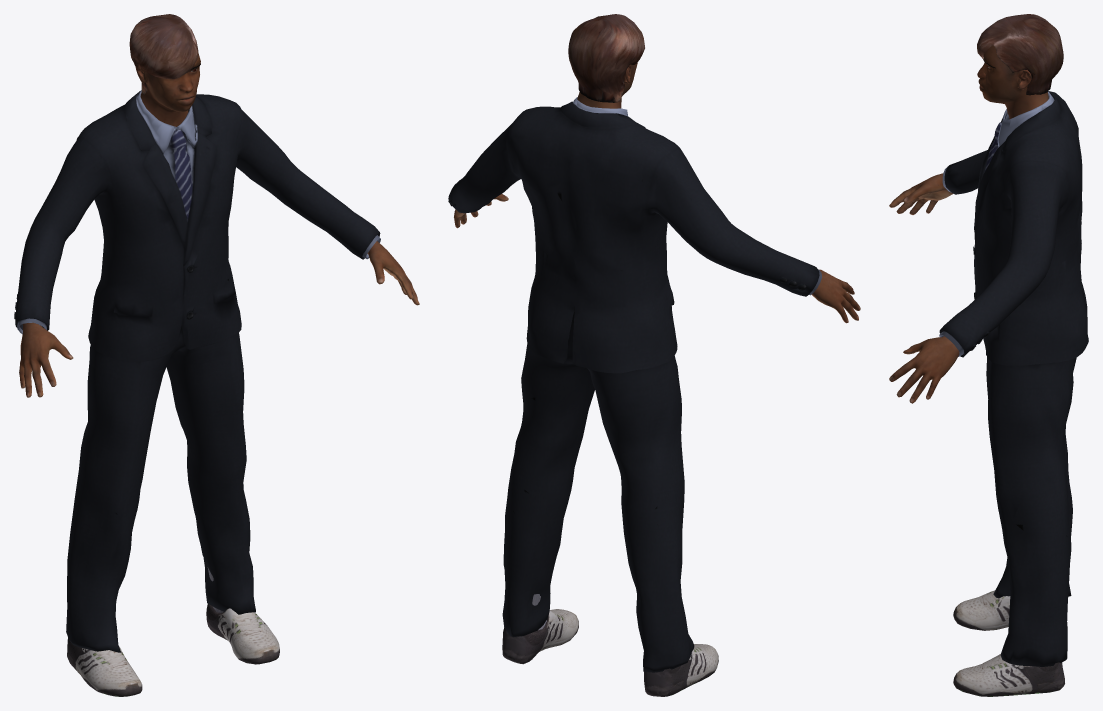
The model's file is h_cadre.glb.
The picture shows the model from 3 angles, left to right: view 1: azimuth 30°, elevation 25°; view 2: azimuth 150°, elevation 25°; view 3: azimuth 270°, elevation 25°; orthographic projection. The views are drawn at different scales.
Parts seen in each view (by area): view 1: Human; view 2: Human; view 3: Human.
Part boxes in pixels (x1=…): Human: x1=14, y1=14, x2=419, y2=696; Human: x1=448, y1=14, x2=860, y2=696; Human: x1=889, y1=14, x2=1088, y2=696.
Size of the model in its own units: 1.25 by 1.96 by 0.5555.
1 material, 1 textured.
